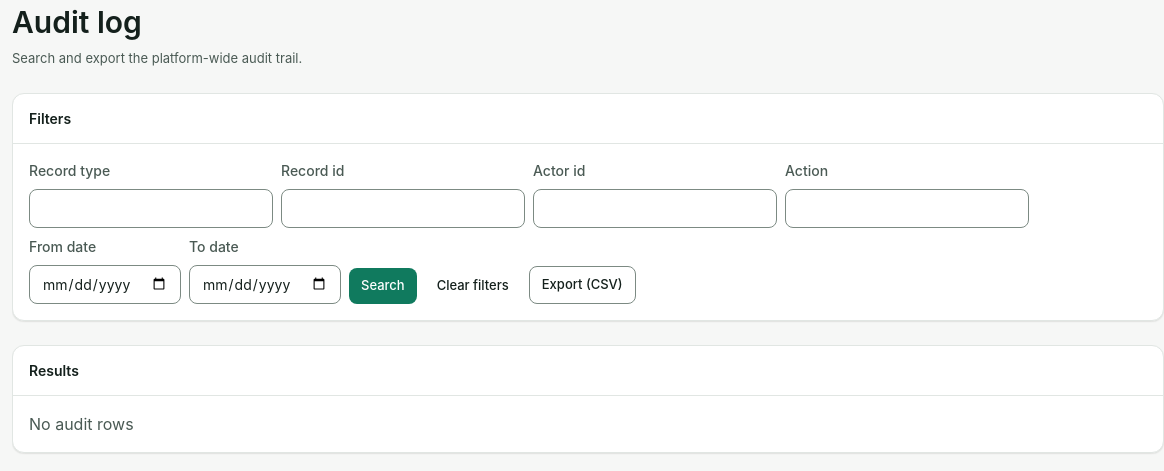
it: AuditExplorerPage › tells an empty filtered search apart from an empty log
Expected: the text "No audit rows" is shown, [29,414,134,434]
Type "nothing_matches_this" into the field labelled "Action" at (907, 208), box [785,188,1029,228]
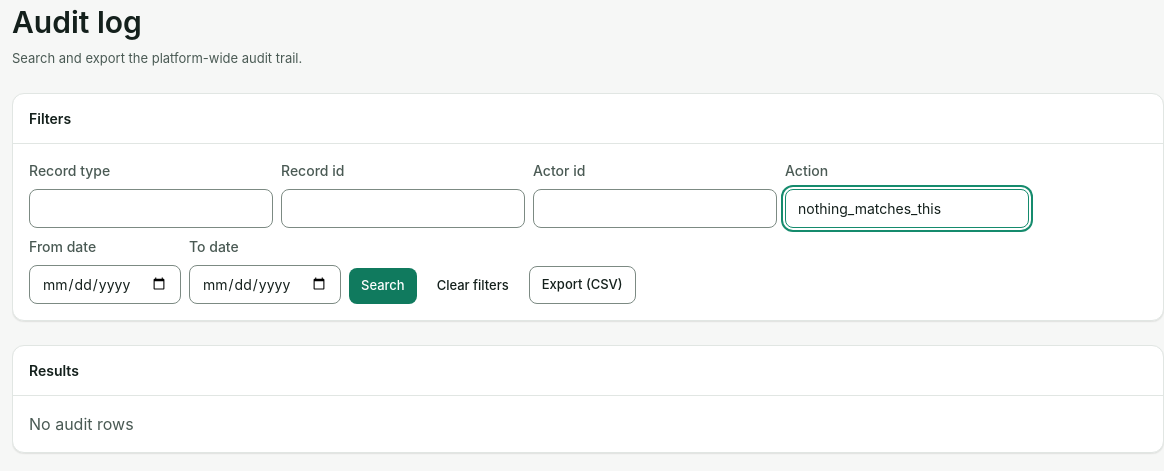
Click the button "Search" at (383, 286), box [349,268,417,304]
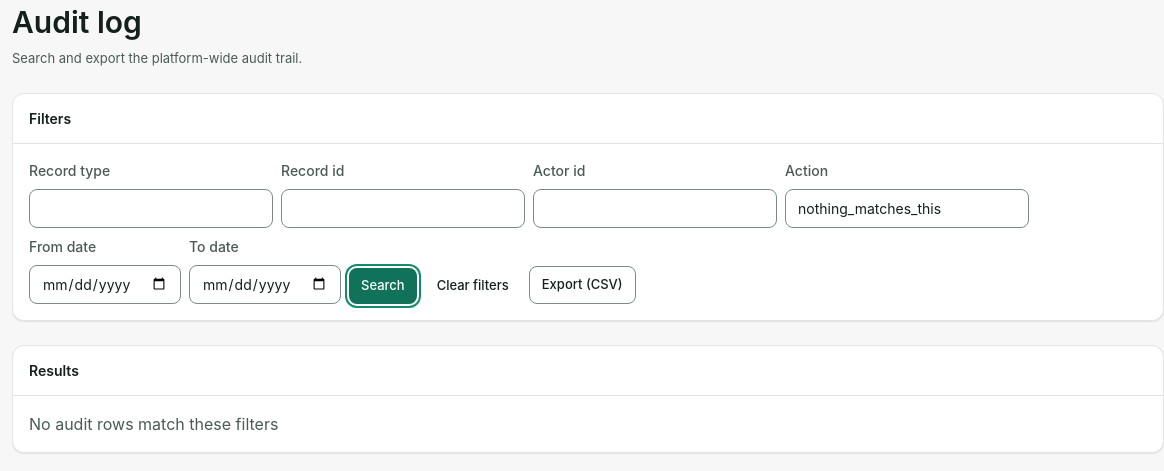
Now the text "No audit rows match these filters" is shown, box [29,414,278,434]
